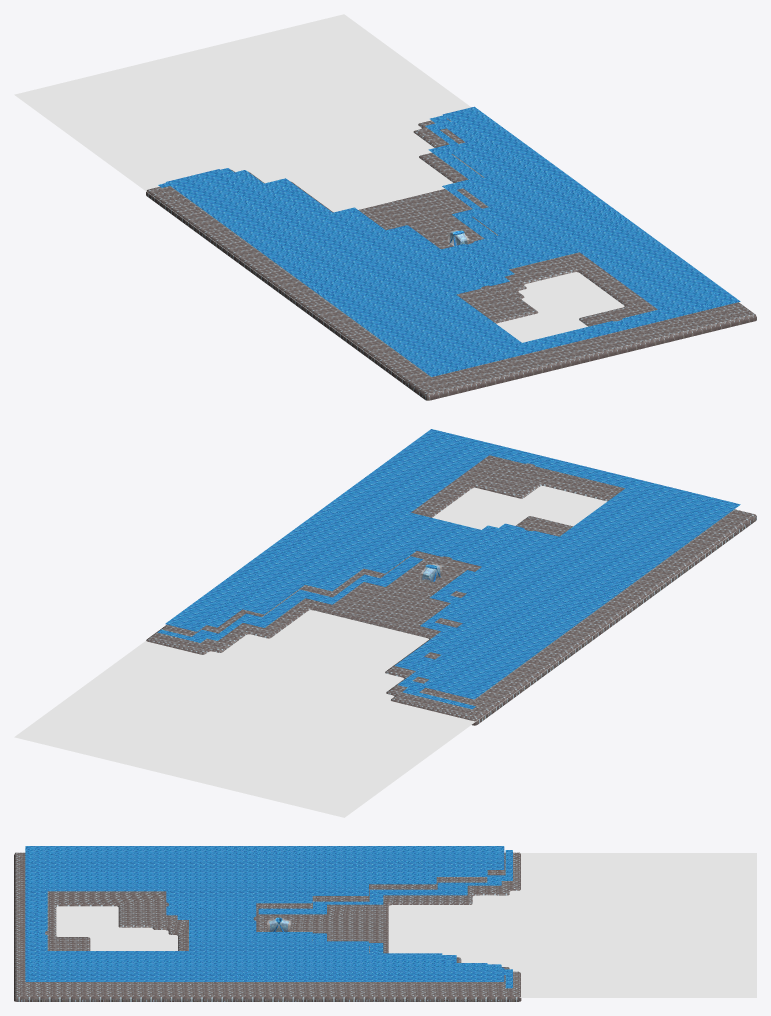
3 renders of one model, top to bottom at view 1: azimuth 30°, elevation 25°; view 2: azimuth 150°, elevation 25°; view 3: azimuth 270°, elevation 25°, orthographic. The views are drawn at different scales.
Visible parts, largest first — view 1: pCube1, Rock, polySurface14; view 2: pCube1, Rock, polySurface14; view 3: Rock, pCube1, polySurface14.
Part boxes in pixels (x1=…): pCube1: x1=14, y1=14, x2=624, y2=380; Rock: x1=158, y1=106, x2=740, y2=376; polySurface14: x1=146, y1=118, x2=756, y2=400; pCube1: x1=14, y1=486, x2=735, y2=817; Rock: x1=157, y1=429, x2=740, y2=709; polySurface14: x1=146, y1=455, x2=756, y2=725; Rock: x1=25, y1=846, x2=512, y2=988; pCube1: x1=56, y1=853, x2=756, y2=997; polySurface14: x1=14, y1=852, x2=521, y2=1001.
Size of the model in its own units: 61 by 3.01 by 132.
9 materials, 8 textured.
